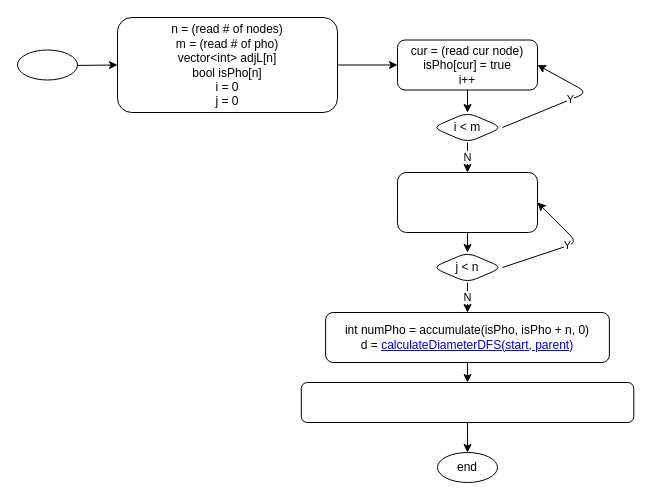
Some shapes in this 652 by 500 pixel diagram are drawn without their labels. Here are the shapes that lost their labels. From the top down, the centre of each, then its label:
pixel 47 64: start
pixel 467 202: read n1, n2 adjL[n1].push_back(n2) adjL[n2].push_back(n1) j++
pixel 467 402: int shortestSpanningPath = 2*(numPho - 1) - d print shortestSpanningPath
